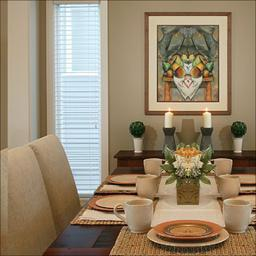Cama: (42, 167, 254, 254)
Ventana: (50, 6, 106, 176)
